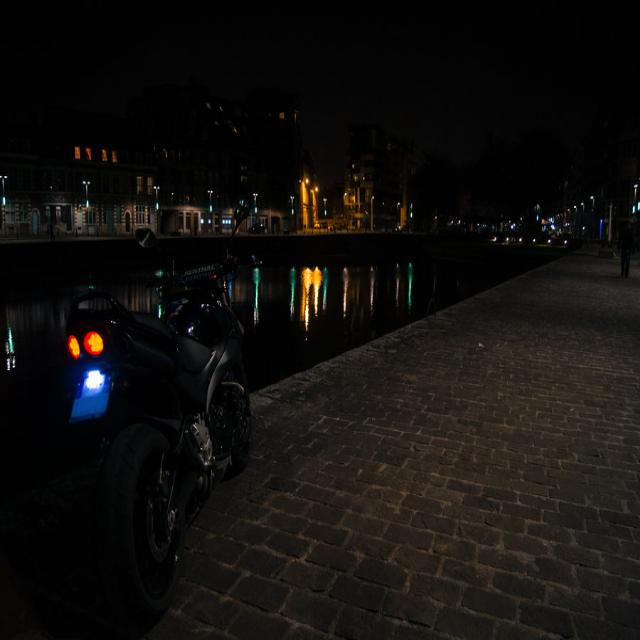Motorbike: (45, 274, 321, 610)
